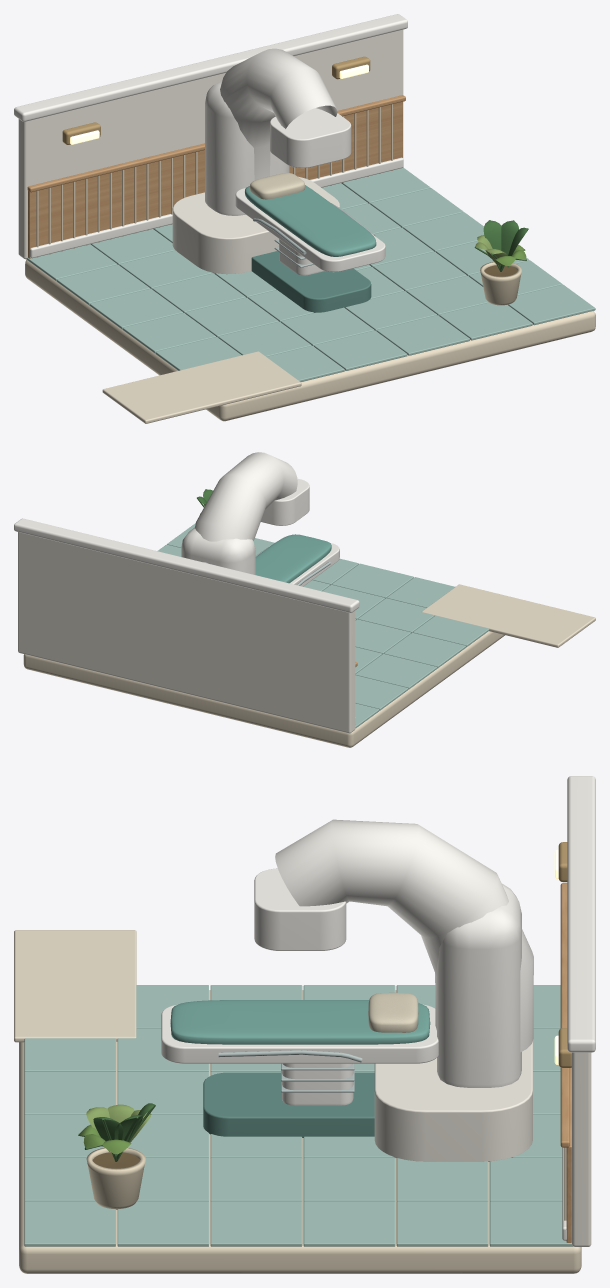
File: treatment-annex.glb
3 renders of one model, top to bottom at view 1: azimuth 30°, elevation 25°; view 2: azimuth 150°, elevation 25°; view 3: azimuth 270°, elevation 25°, orthographic. The views are drawn at different scales.
Visible parts, largest first — view 1: treatment-annex; view 2: treatment-annex; view 3: treatment-annex.
Part boxes in pixels (x1=…): treatment-annex: x1=14, y1=14, x2=595, y2=423; treatment-annex: x1=14, y1=452, x2=595, y2=747; treatment-annex: x1=14, y1=776, x2=595, y2=1273.
Size of the model in its own units: 7.33 by 3.49 by 5.69.
17 materials, 2 textured.
